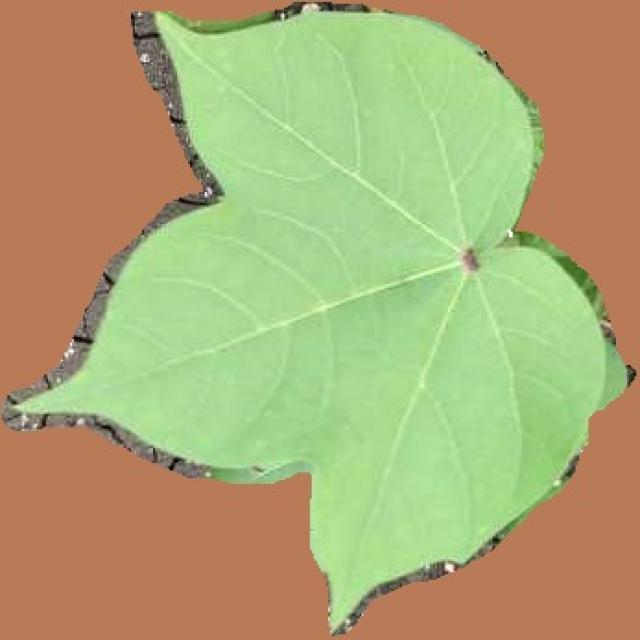Healthy Leaf: (135, 16, 564, 640)
